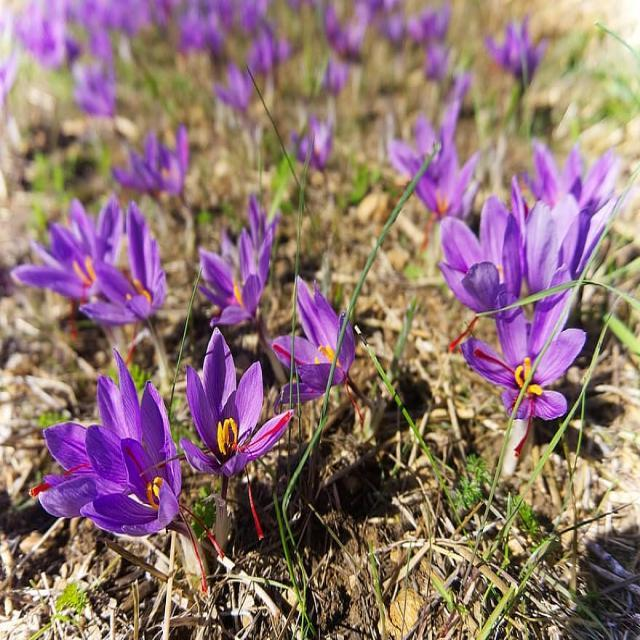Flower: (33, 345, 187, 543), (183, 322, 291, 506), (21, 199, 170, 319), (470, 291, 604, 423), (436, 214, 615, 308), (282, 272, 364, 404), (196, 198, 280, 324), (398, 115, 490, 219), (494, 156, 626, 227), (111, 129, 199, 205), (15, 10, 106, 72), (199, 56, 266, 120), (70, 68, 138, 128), (490, 26, 551, 74), (291, 108, 343, 164)
stigma: (183, 512, 215, 595), (242, 469, 273, 544), (447, 310, 485, 356)
